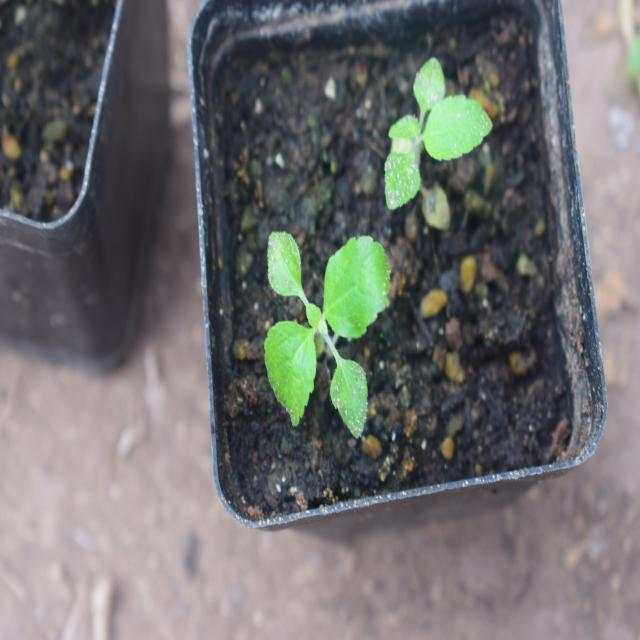billygoat_weed: (253, 206, 398, 434), (361, 67, 485, 228)
